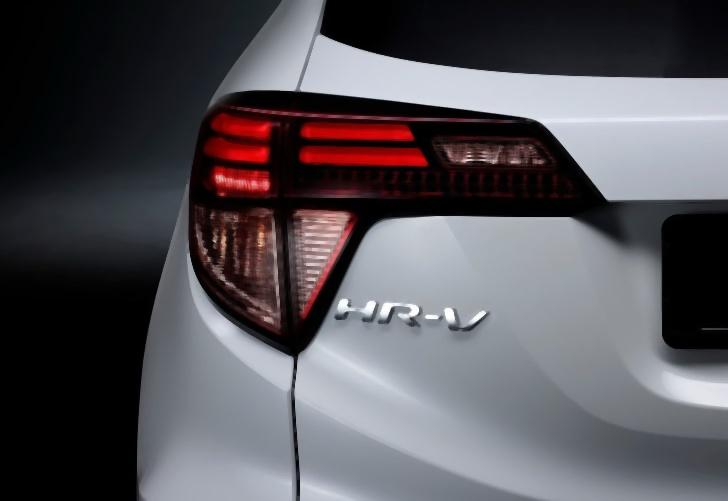Car boot: (284, 0, 728, 501)
Rear bumper: (90, 166, 322, 501)
Rear light - -L-: (180, 80, 621, 374)
